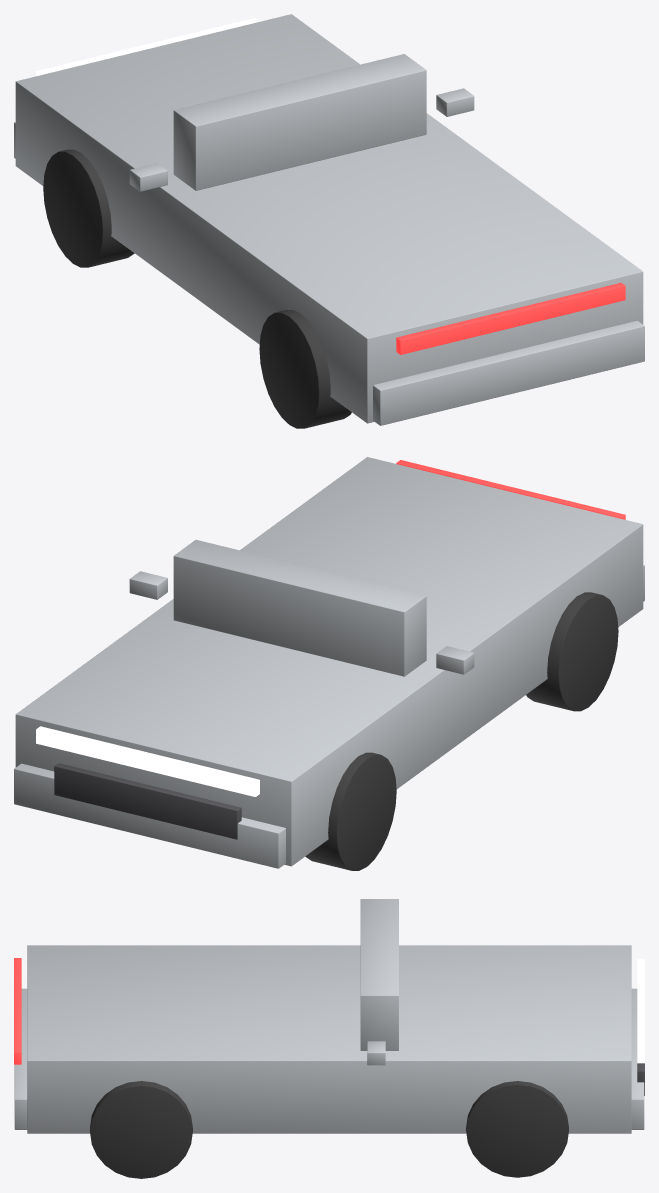
The model's file is vehicle.glb.
3 renders of one model, top to bottom at view 1: azimuth 30°, elevation 25°; view 2: azimuth 150°, elevation 25°; view 3: azimuth 270°, elevation 25°, orthographic. The views are drawn at different scales.
Parts seen in each view (by area): view 1: BODY_Main, BODY_Roof, BODY_Bumpers_Rear, WHEEL_RR_Tire, WHEEL_FR_Tire, LIGHT_Taillights, LIGHT_Headlights, BODY_Mirror_L, BODY_Mirror_R; view 2: BODY_Main, BODY_Roof, BODY_Bumpers_Front, WHEEL_RR_Tire, WHEEL_FR_Tire, BODY_Grille, LIGHT_Headlights, LIGHT_Taillights, BODY_Mirror_R, BODY_Mirror_L; view 3: BODY_Main, WHEEL_RL_Tire, WHEEL_FL_Tire, BODY_Roof, BODY_Bumpers_Rear, BODY_Bumpers_Front, LIGHT_Taillights, LIGHT_Headlights, BODY_Mirror_L.
Part boxes in pixels (bbox=[...]): BODY_Main: bbox=[15, 14, 643, 423]; BODY_Roof: bbox=[173, 54, 426, 190]; BODY_Bumpers_Rear: bbox=[373, 320, 644, 425]; WHEEL_RR_Tire: bbox=[259, 310, 351, 428]; WHEEL_FR_Tire: bbox=[43, 149, 134, 267]; LIGHT_Taillights: bbox=[396, 282, 625, 354]; LIGHT_Headlights: bbox=[36, 17, 259, 76]; BODY_Mirror_L: bbox=[436, 88, 474, 116]; BODY_Mirror_R: bbox=[129, 163, 167, 191]; BODY_Main: bbox=[15, 457, 643, 866]; BODY_Roof: bbox=[173, 539, 426, 676]; BODY_Bumpers_Front: bbox=[14, 763, 285, 868]; WHEEL_RR_Tire: bbox=[526, 592, 618, 711]; WHEEL_FR_Tire: bbox=[305, 752, 396, 870]; BODY_Grille: bbox=[54, 763, 241, 839]; LIGHT_Headlights: bbox=[36, 726, 259, 796]; LIGHT_Taillights: bbox=[396, 460, 625, 519]; BODY_Mirror_R: bbox=[436, 646, 474, 674]; BODY_Mirror_L: bbox=[129, 571, 167, 599]; BODY_Main: bbox=[27, 945, 631, 1133]; WHEEL_RL_Tire: bbox=[90, 1081, 192, 1178]; WHEEL_FL_Tire: bbox=[466, 1081, 568, 1177]; BODY_Roof: bbox=[360, 899, 398, 1050]; BODY_Bumpers_Rear: bbox=[14, 988, 27, 1129]; BODY_Bumpers_Front: bbox=[631, 988, 644, 1129]; LIGHT_Taillights: bbox=[14, 958, 21, 1064]; LIGHT_Headlights: bbox=[637, 959, 644, 1063]; BODY_Mirror_L: bbox=[367, 1041, 385, 1065].
Size of the model in its own units: 2.16 by 1.21 by 4.11.
